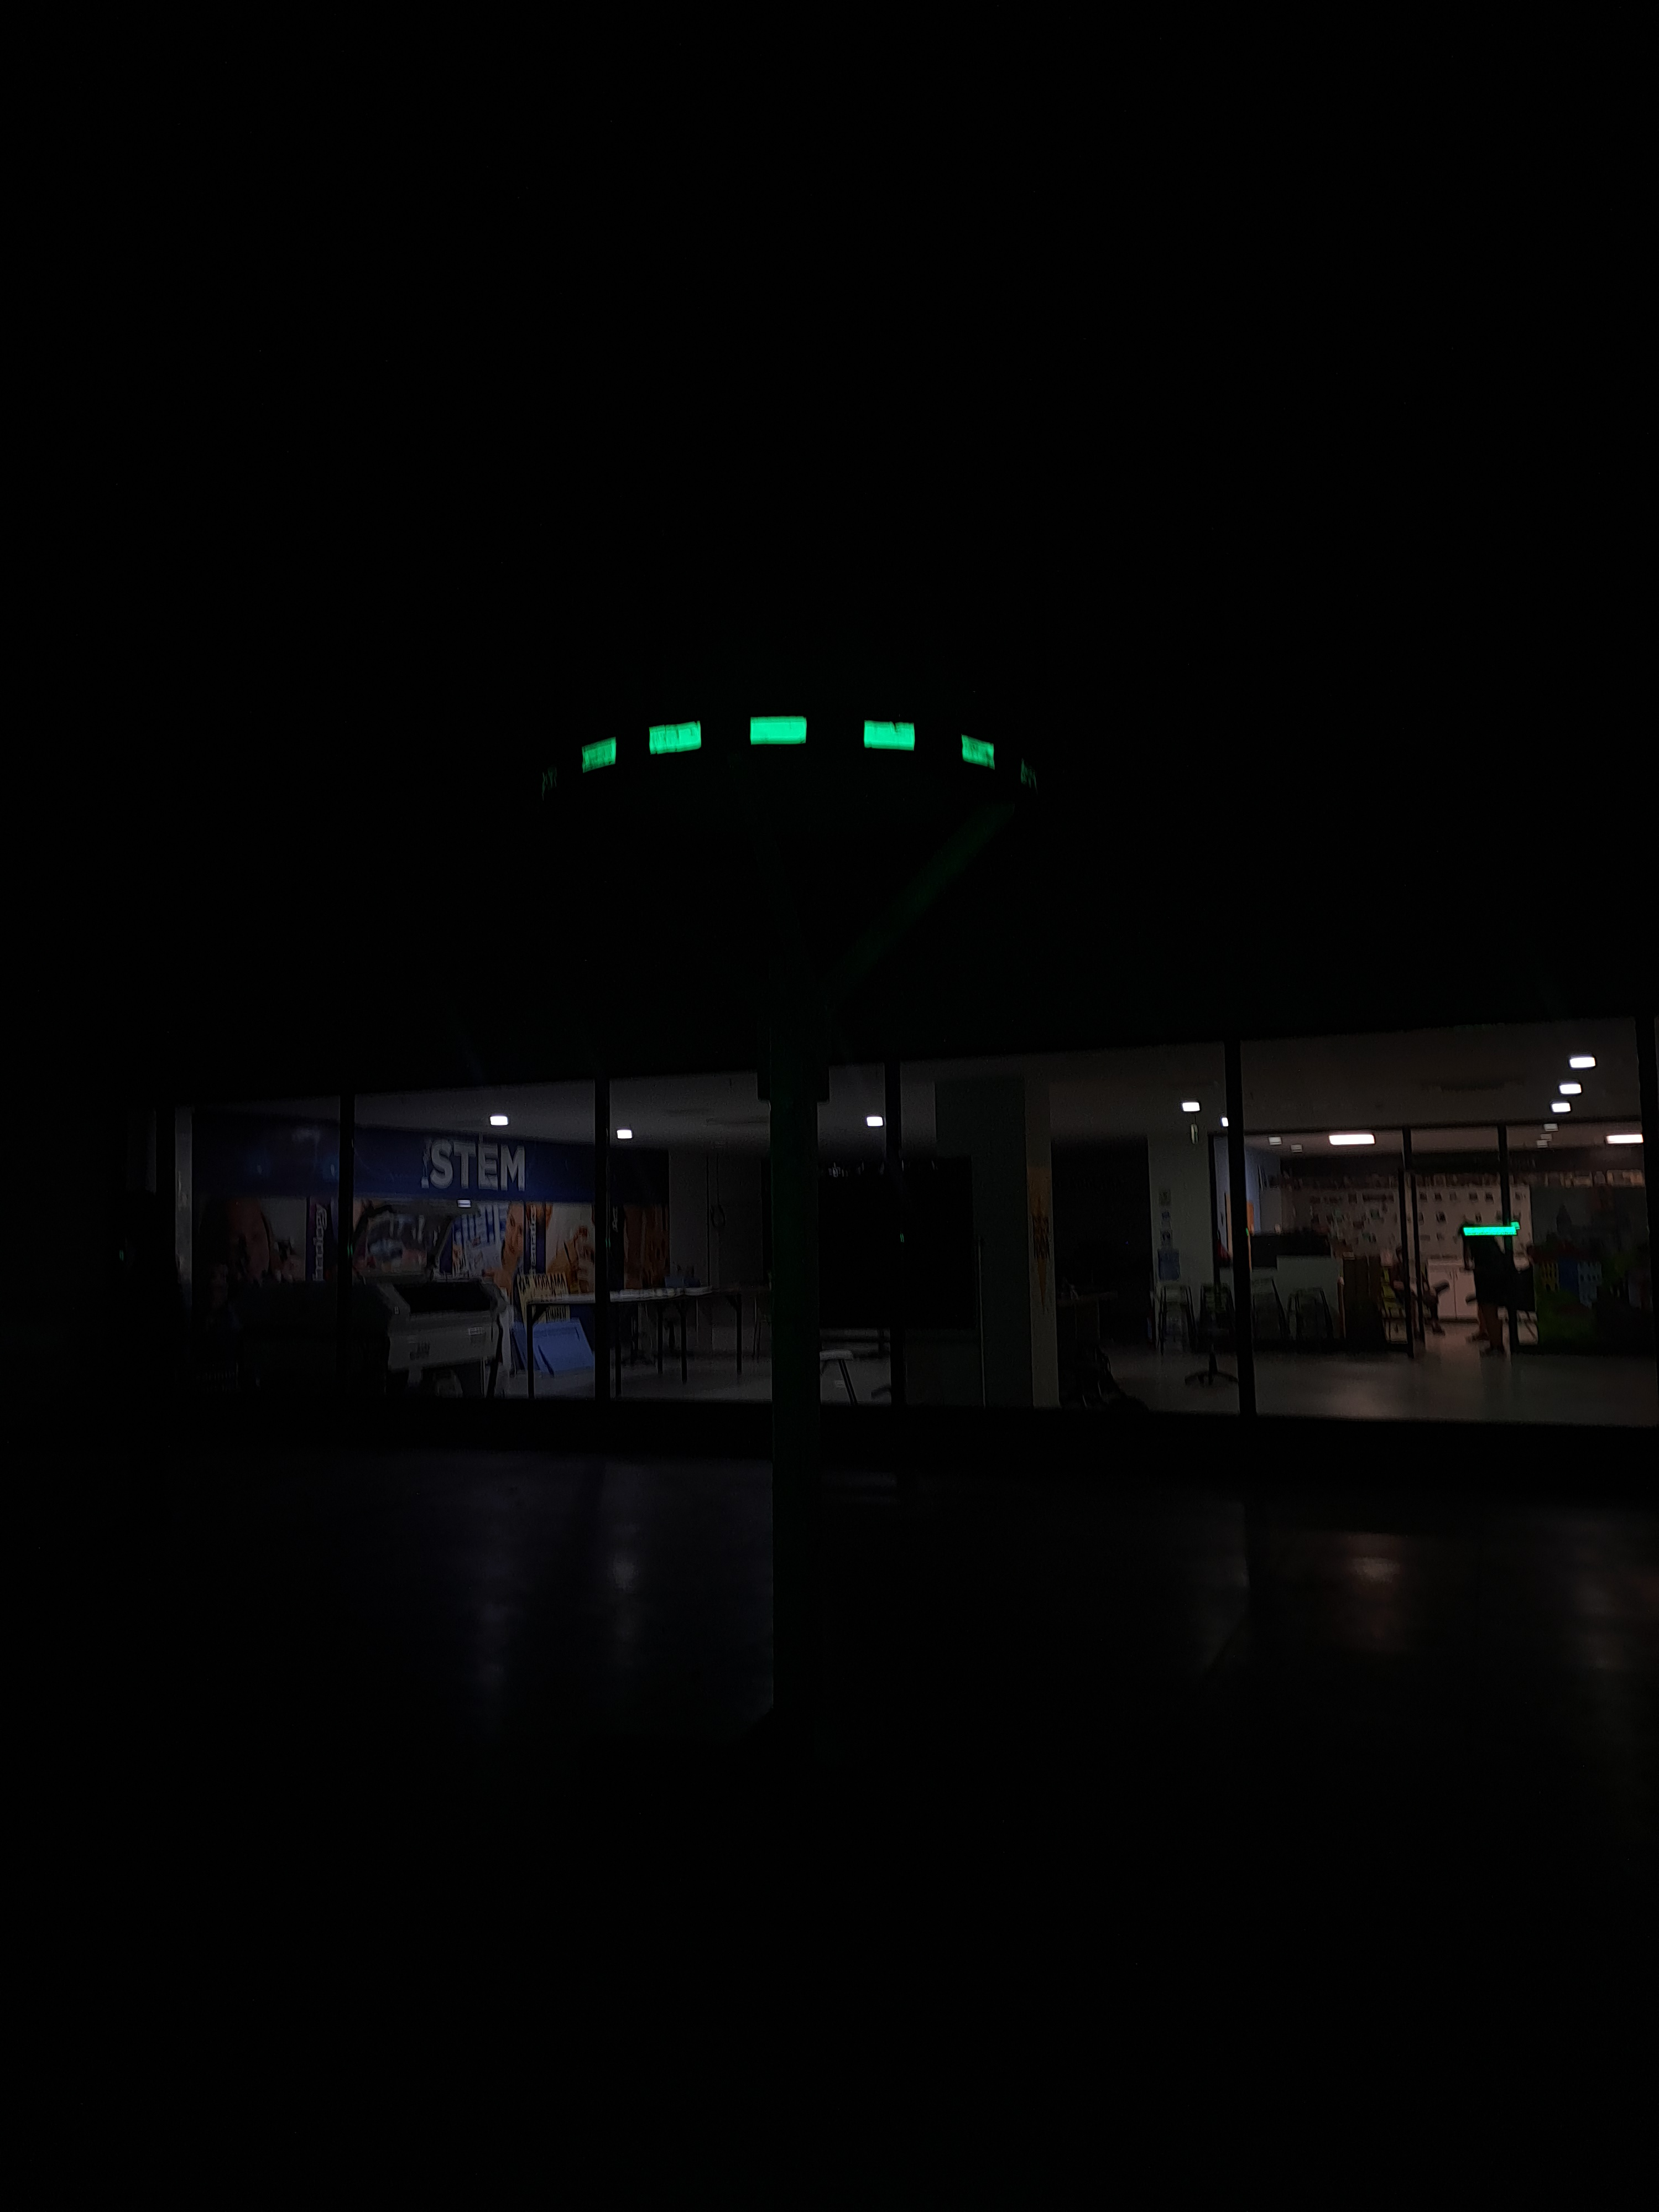hoop: (572, 718, 999, 777)
